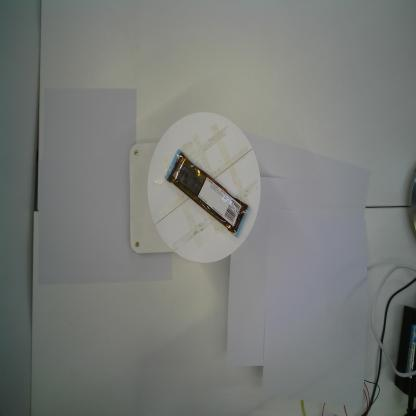Chocolate: (164, 149, 251, 239)
